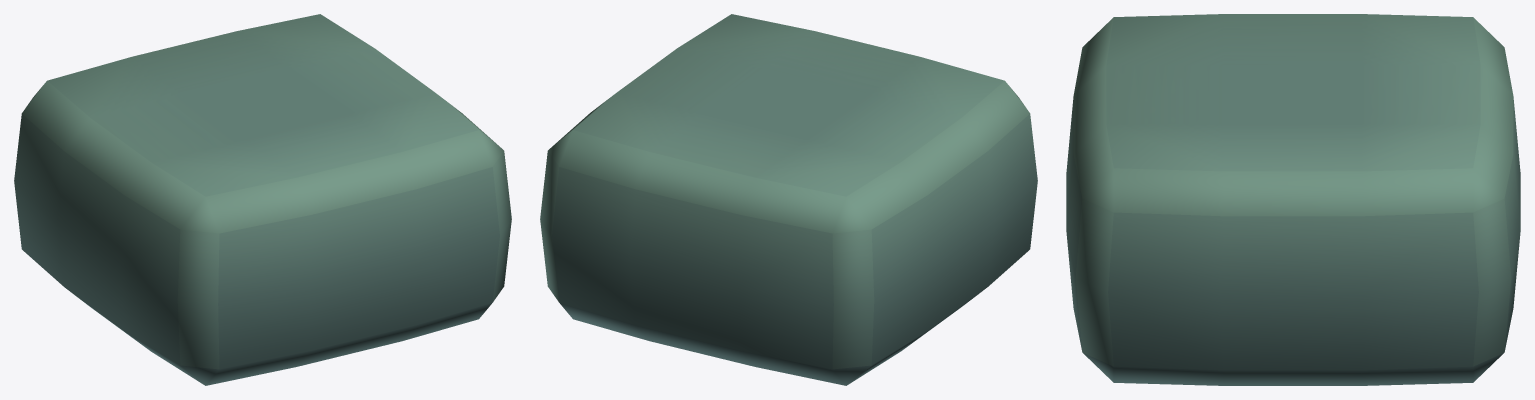
File: cube_03_shade_1_LOD_setup.fbx
3 renders of one model, left to right at view 1: azimuth 30°, elevation 25°; view 2: azimuth 150°, elevation 25°; view 3: azimuth 270°, elevation 25°, orthographic. The views are drawn at different scales.
Parts seen in each view (by area): view 1: cube_03_shade_1_LOD0; view 2: cube_03_shade_1_LOD0; view 3: cube_03_shade_1_LOD0.
Boxes of the visible parts, x1,y1,x2,y2 form: cube_03_shade_1_LOD0: (14,14,511,385); cube_03_shade_1_LOD0: (540,14,1037,385); cube_03_shade_1_LOD0: (1066,14,1520,385).
Size of what is drawn, in the model's own units: 112 by 58.2 by 112.
